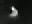person: (10, 5, 19, 20)
